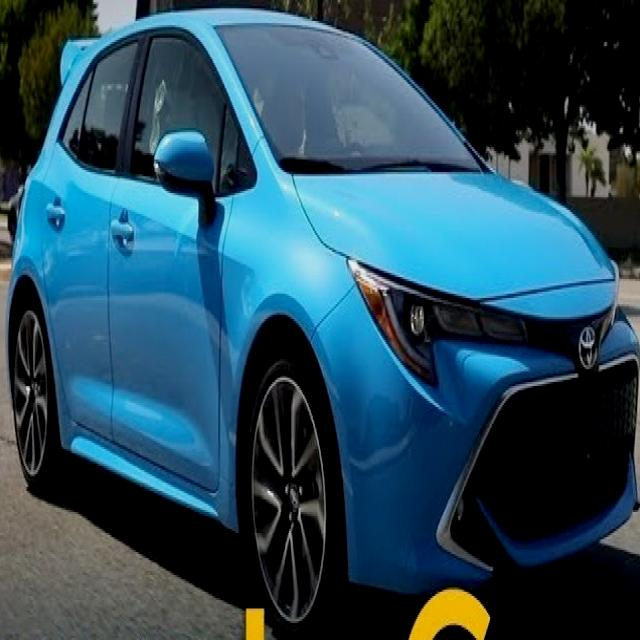blue: (10, 14, 637, 640)
